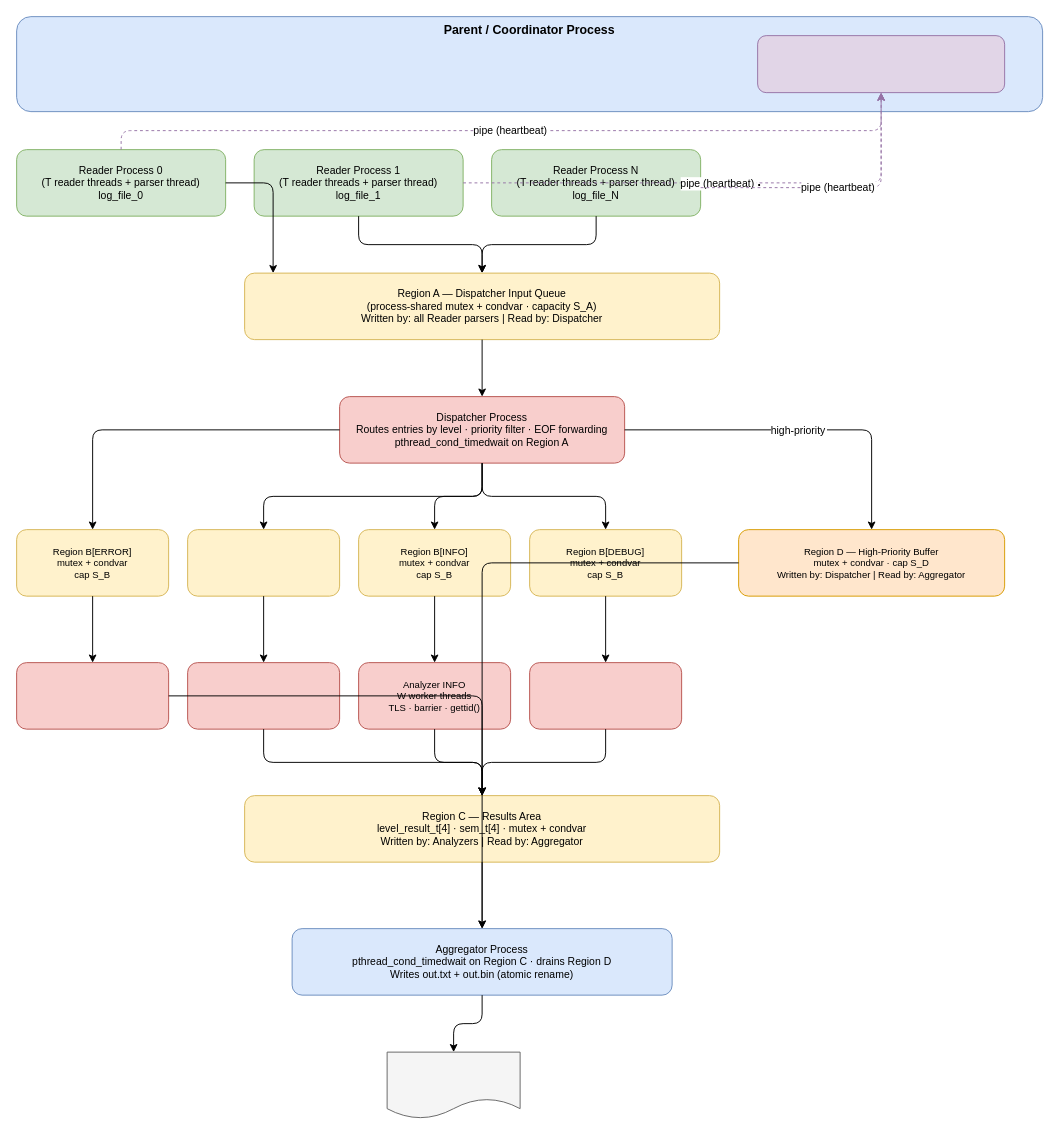
The diagram is 1059 pixels wide and 1135 high, and some of its shapes have lost their labels. The shapes that lost their labels are listed below. From the top down, each one's centre as x and y in pixels, then its label:
At (881,64): "Watchdog Thread (inside Parent) select() · pipe read · stderr".
At (263,562): "Region B[WARN] mutex + condvar cap S_B".
At (92,695): "Analyzer ERROR W worker threads TLS · barrier · gettid()".
At (263,695): "Analyzer WARN W worker threads TLS · barrier · gettid()".
At (605,695): "Analyzer DEBUG W worker threads TLS · barrier · gettid()".
At (453,1085): "results.txt results.bin".
